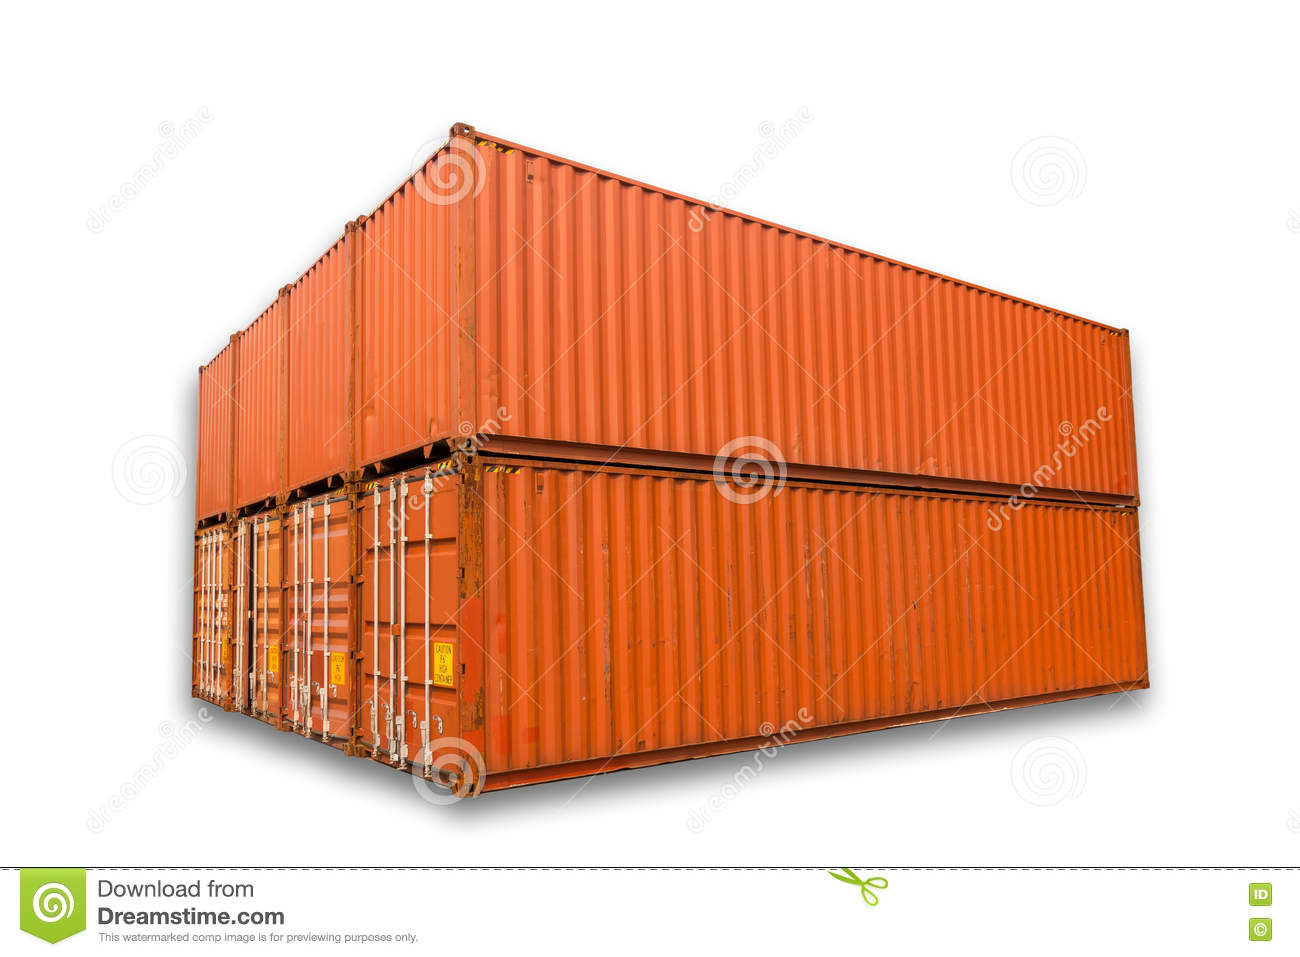container_door: (359, 463, 463, 794), (294, 492, 354, 754), (243, 509, 290, 734), (189, 523, 236, 718)
container_no_door: (357, 127, 465, 474), (290, 223, 356, 496), (234, 291, 289, 514), (190, 336, 241, 527)
